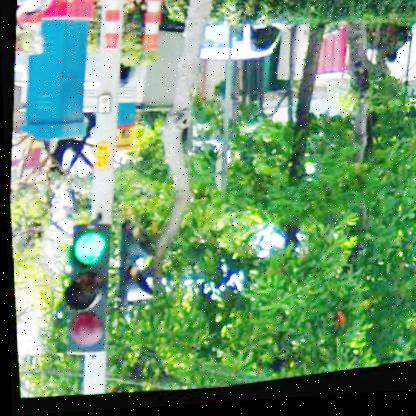Traffic Light -Green-: (54, 222, 112, 361)
